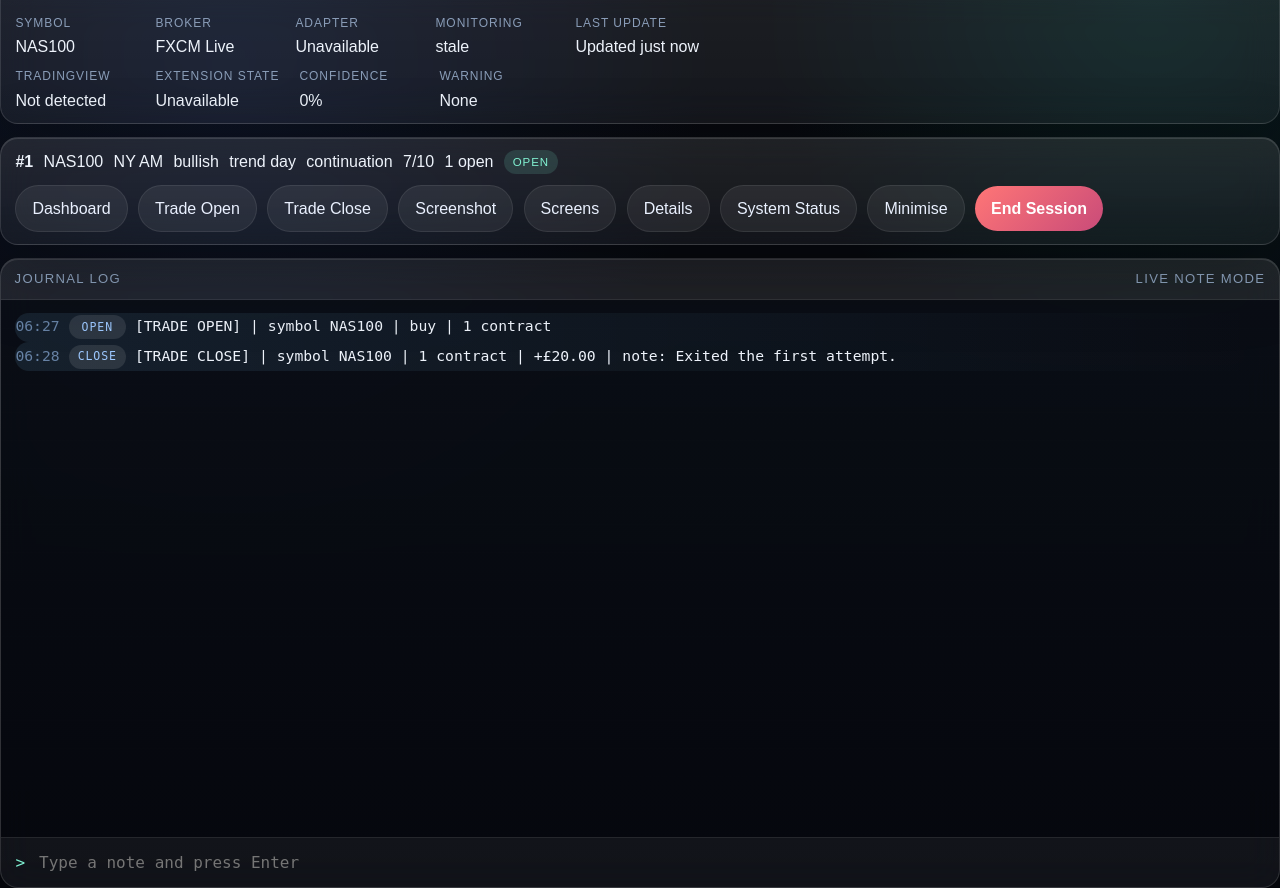
Scenario: JournalPage close-trade recovery › does not reuse a stale observed open after an intervening close
This screenshot has width=1280, height=888.
(page scrolled)
Click the button "Trade Open" at (198, 208), box x1=138 y1=185 x2=257 y2=232
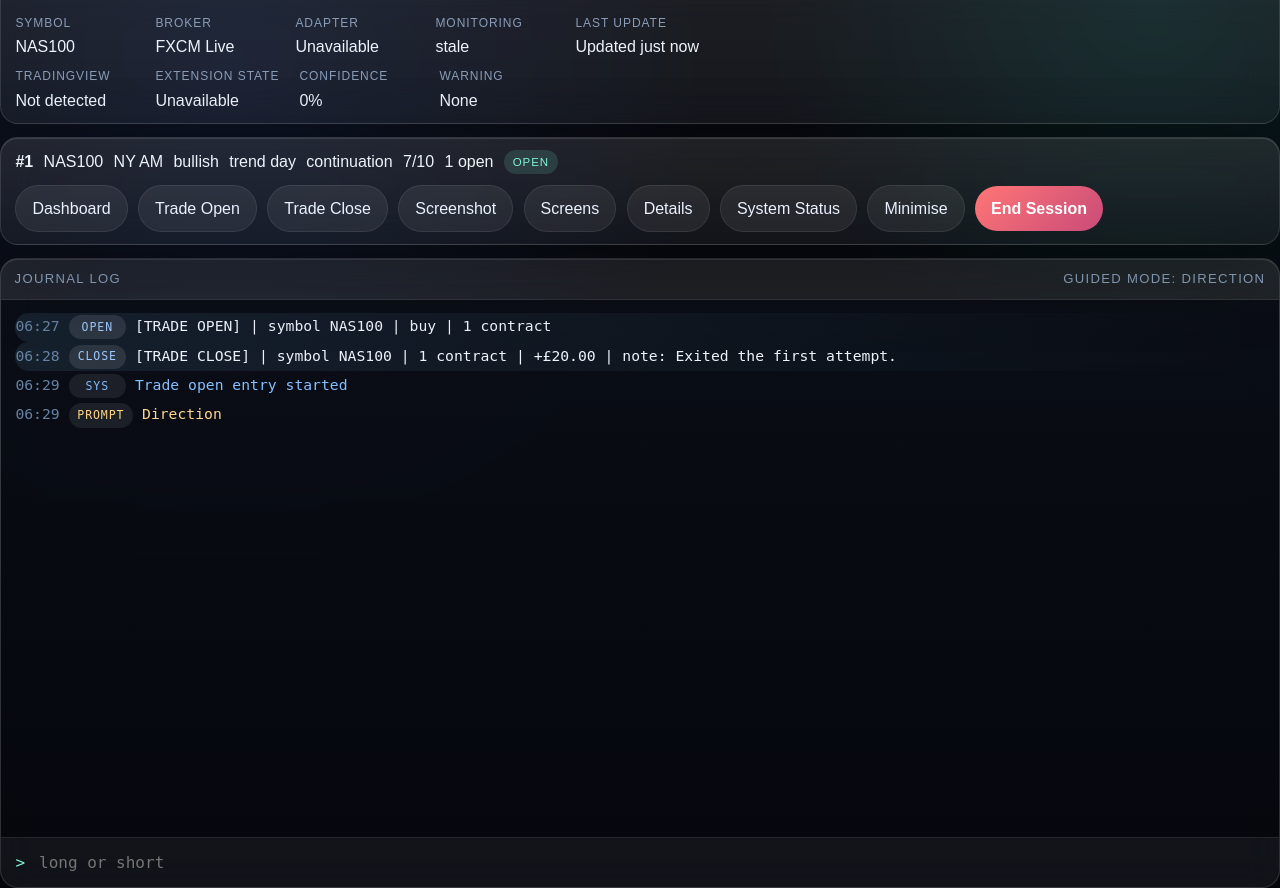
expect the text "Direction" is shown: met, box x1=142 y1=405 x2=222 y2=422
